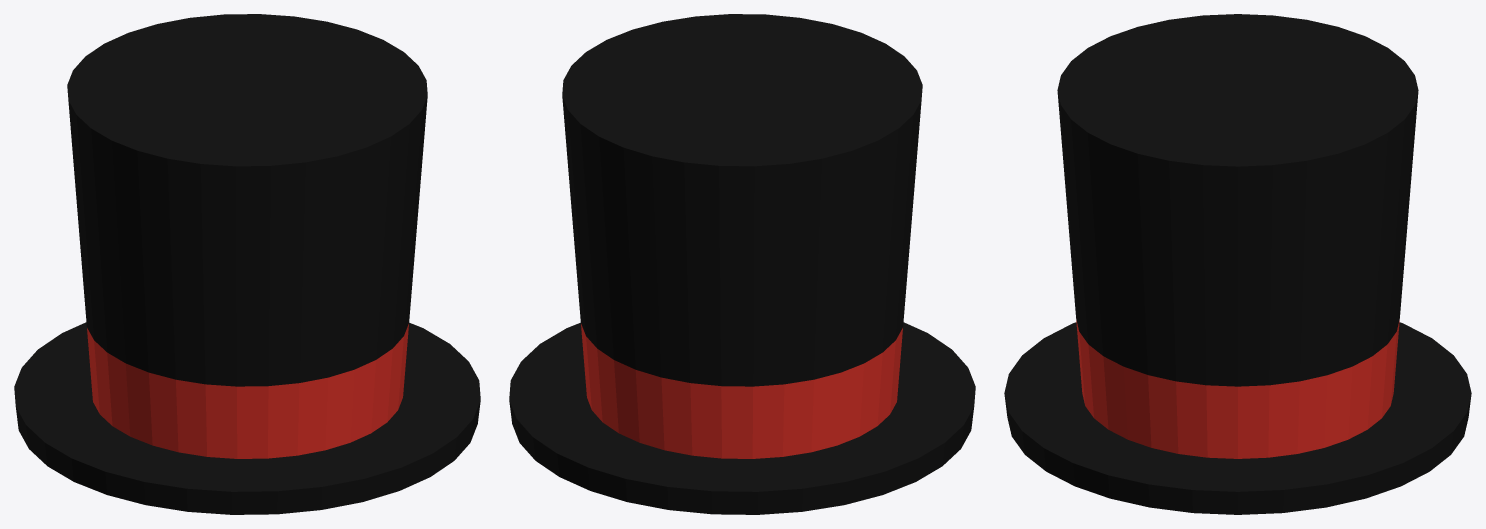
Rendered from hat.fbx.
The picture shows the model from 3 angles, left to right: view 1: azimuth 30°, elevation 25°; view 2: azimuth 150°, elevation 25°; view 3: azimuth 270°, elevation 25°; orthographic projection.
Parts seen in each view (by area): view 1: hat.001; view 2: hat.001; view 3: hat.001.
Boxes of the visible parts, bbox=[...] form: hat.001: bbox=[14, 14, 480, 514]; hat.001: bbox=[509, 14, 975, 514]; hat.001: bbox=[1004, 14, 1471, 514].
Bounding box in the file's own units: 259 × 200 × 259.
